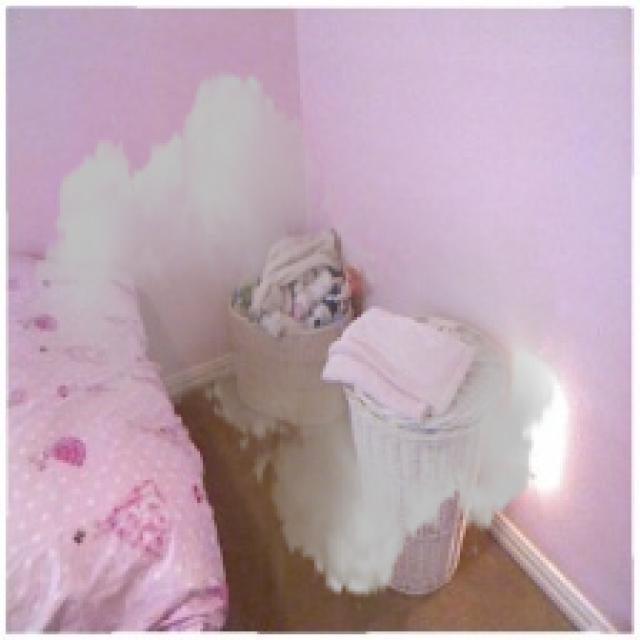smoke: (26, 55, 563, 614)
